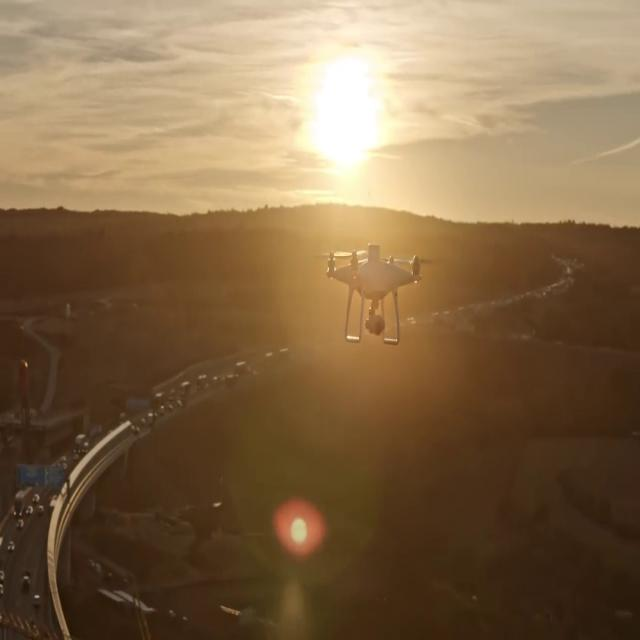drone: (312, 241, 440, 347)
